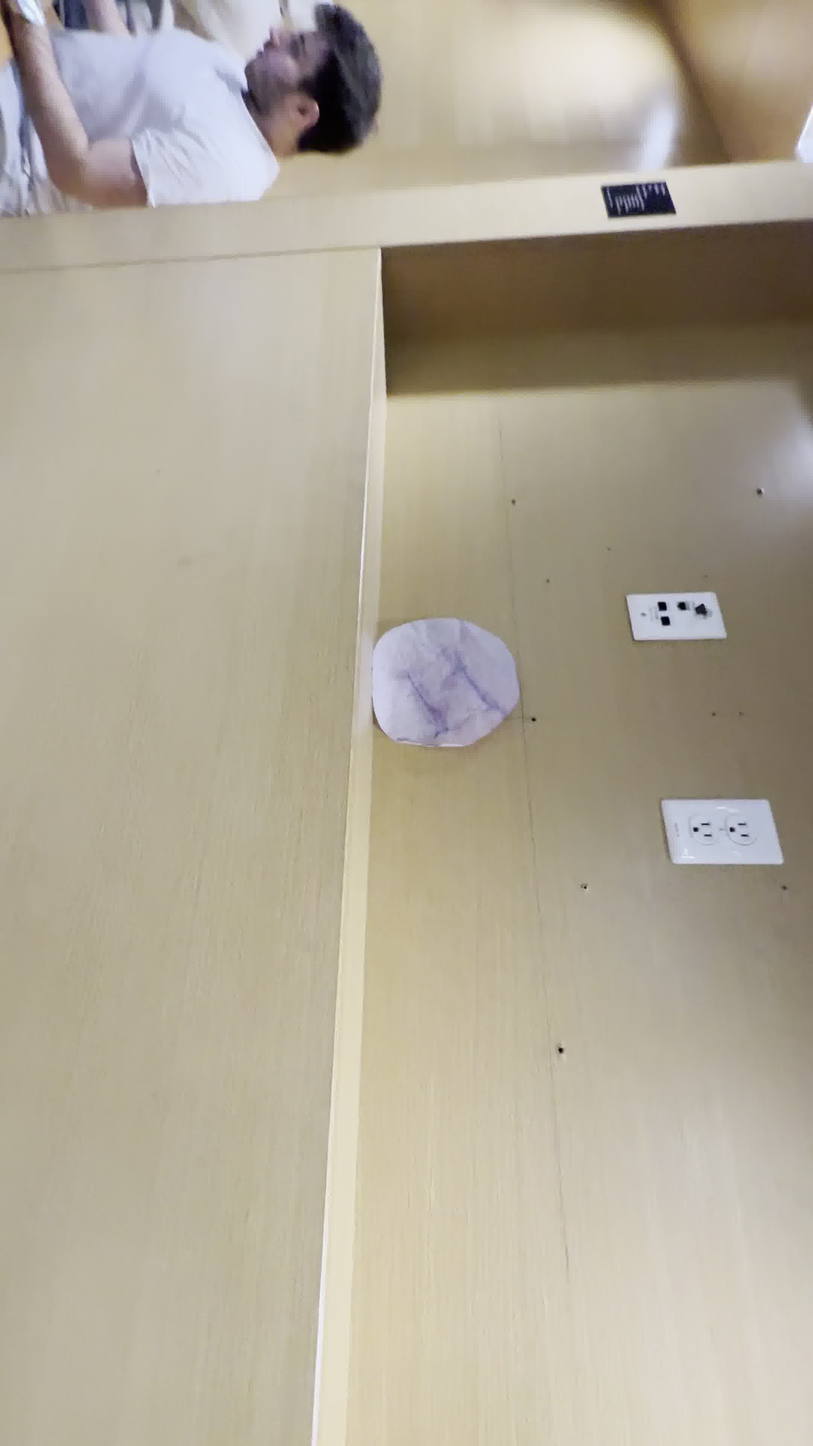Target: (373, 621, 521, 750)
